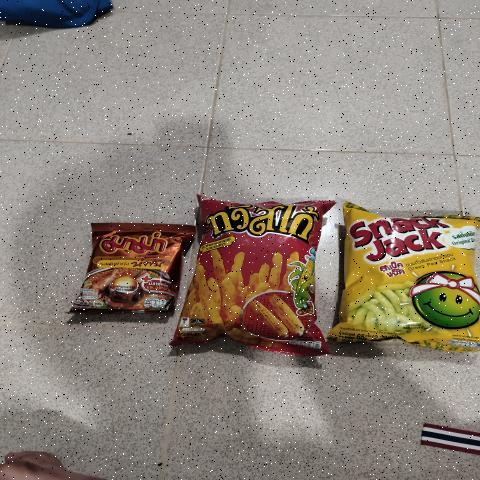mama: (96, 228, 175, 313)
snack_jack: (348, 211, 480, 355)
twisco: (203, 200, 320, 344)
